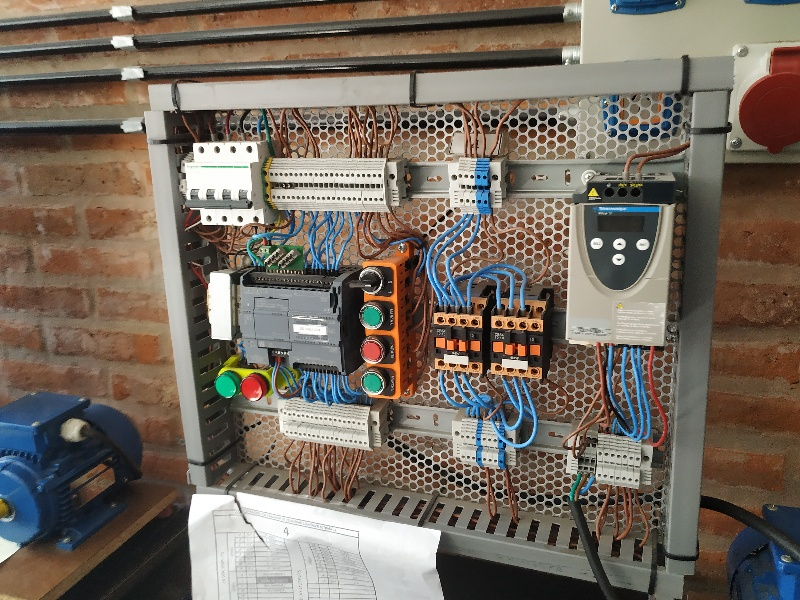Tablero 4: (159, 100, 686, 570)
